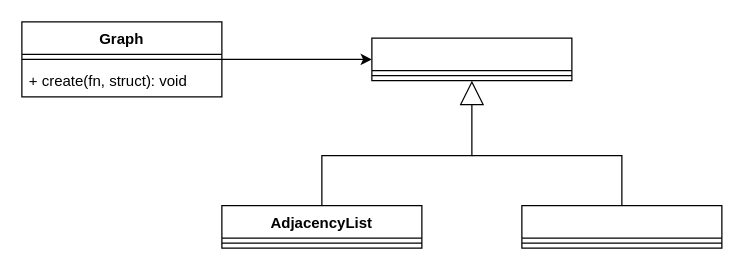
Image size: 744x270. Some labels were removed from this diagram. The centre of each missing label's shape, as x and y in pixels:
AdjacencyMatrix: the point at 621,226
AdjacencyStructure: the point at 471,59
